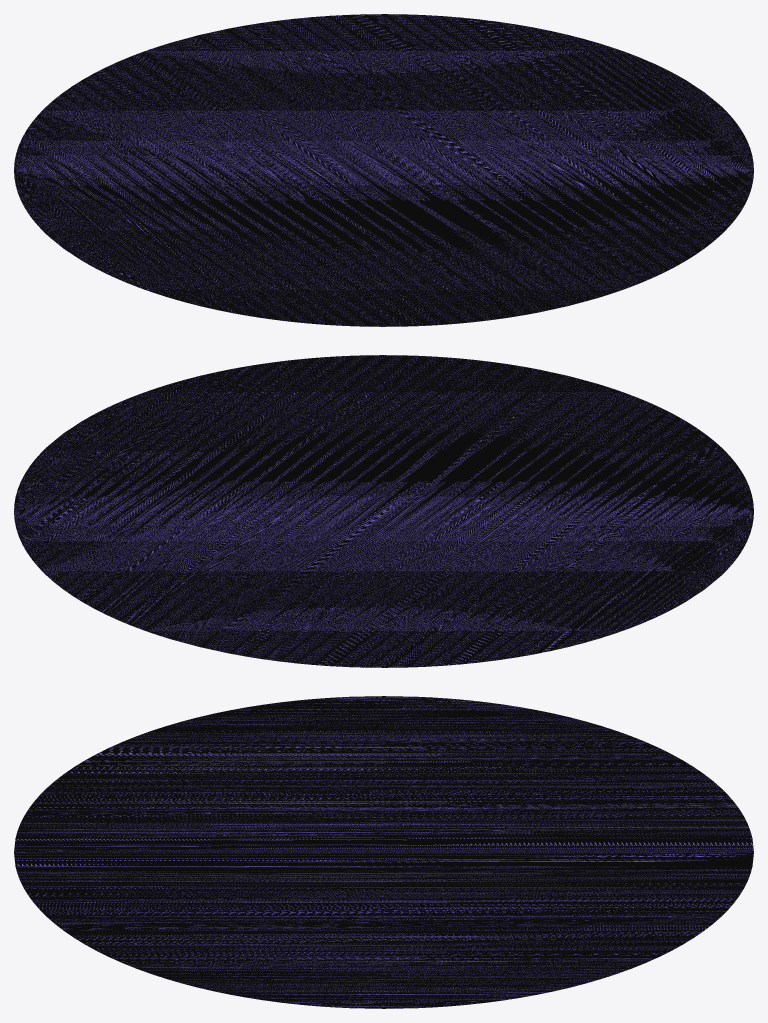
Rendered from original-9.obj.
3 renders of one model, top to bottom at view 1: azimuth 30°, elevation 25°; view 2: azimuth 150°, elevation 25°; view 3: azimuth 270°, elevation 25°, orthographic.
Visible parts, largest first — view 1: Obj_000009_1/Obj_000009/mesh9/mesh9-geometry#mesh9-geometry; view 2: Obj_000009_1/Obj_000009/mesh9/mesh9-geometry#mesh9-geometry; view 3: Obj_000009_1/Obj_000009/mesh9/mesh9-geometry#mesh9-geometry.
Part boxes in pixels (box(x1,y1,x2,y2)): Obj_000009_1/Obj_000009/mesh9/mesh9-geometry#mesh9-geometry: box(14, 14, 753, 326); Obj_000009_1/Obj_000009/mesh9/mesh9-geometry#mesh9-geometry: box(14, 355, 753, 667); Obj_000009_1/Obj_000009/mesh9/mesh9-geometry#mesh9-geometry: box(14, 696, 753, 1008).
Size of the model in its own units: 1.01 by 0 by 1.01.
